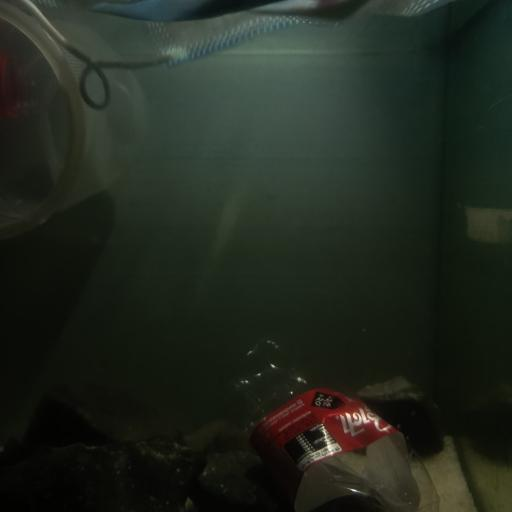mask: (19, 0, 366, 113)
plastic_bottle: (223, 327, 440, 512)
plastic_cup: (0, 0, 147, 228)
